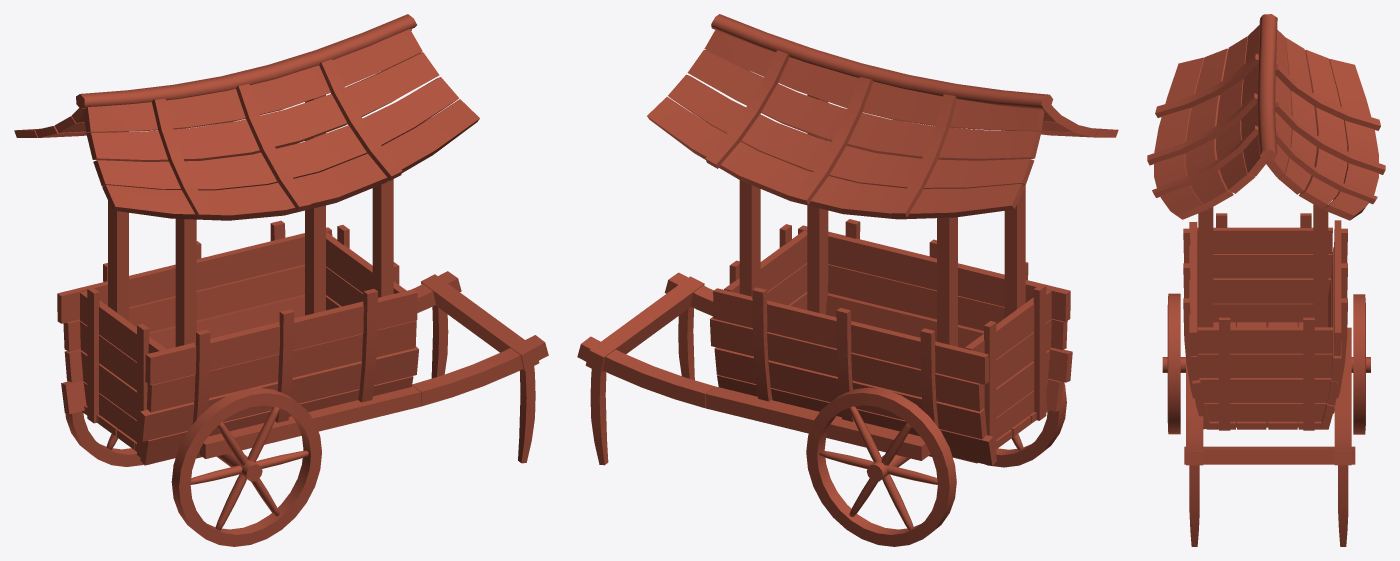
Rendered from SM_cart_shop.fbx.
3 renders of one model, left to right at view 1: azimuth 30°, elevation 25°; view 2: azimuth 150°, elevation 25°; view 3: azimuth 270°, elevation 25°, orthographic. The views are drawn at different scales.
Visible parts, largest first — view 1: Box063; view 2: Box063; view 3: Box063.
Part boxes in pixels (x1,y1,x2,y2): Box063: (14,14,548,546); Box063: (577,14,1118,546); Box063: (1147,14,1385,546).
Bounding box in the file's own units: 114 × 108 × 63.26.
